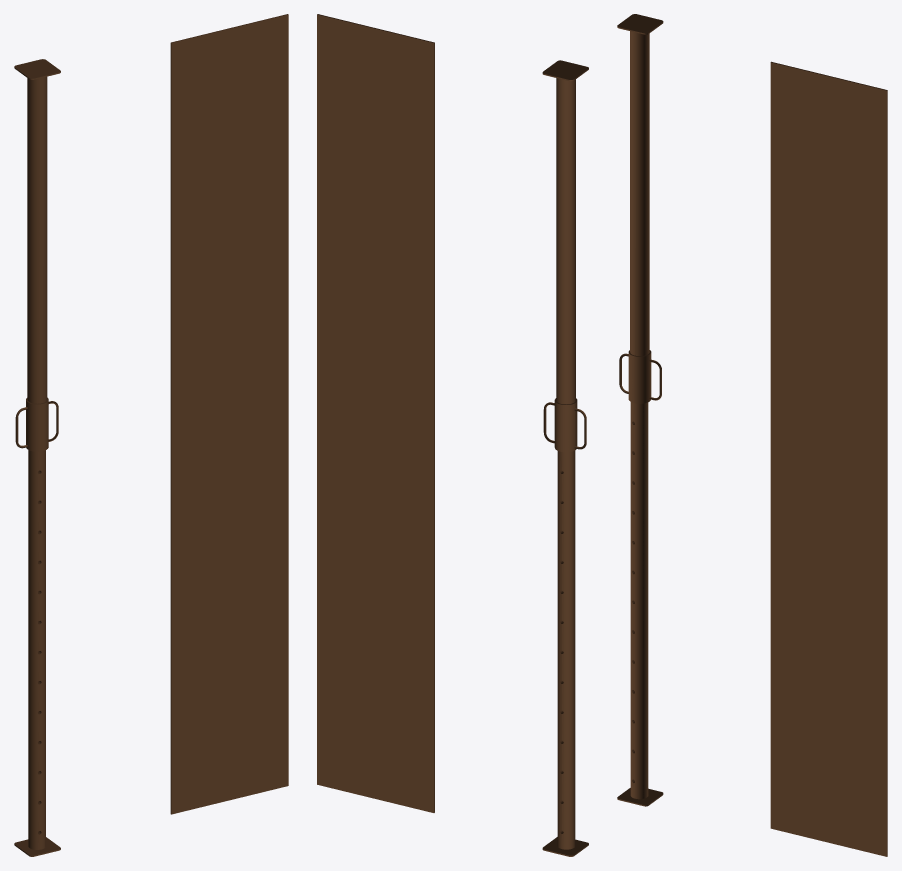
The picture shows the model from 3 angles, left to right: view 1: azimuth 30°, elevation 25°; view 2: azimuth 150°, elevation 25°; view 3: azimuth 330°, elevation 25°; orthographic projection.
Visible parts, largest first — view 1: Componente_2, Puntal-scaffold, Componente_5_1; view 2: Componente_2, Puntal-scaffold, Componente_5_1; view 3: Componente_2, Puntal-scaffold, Componente_5_1.
Part boxes in pixels (box(x1,y1,x2,y2)): Componente_2: box(170, 14, 288, 814); Puntal-scaffold: box(26, 76, 48, 849); Componente_5_1: box(14, 59, 60, 79); Componente_2: box(317, 14, 434, 812); Puntal-scaffold: box(554, 78, 577, 849); Componente_5_1: box(542, 60, 588, 81); Componente_2: box(770, 61, 887, 856); Puntal-scaffold: box(628, 31, 651, 799); Componente_5_1: box(617, 14, 663, 34).
Size of the model in its own units: 31.83 by 87.37 by 3.67.
